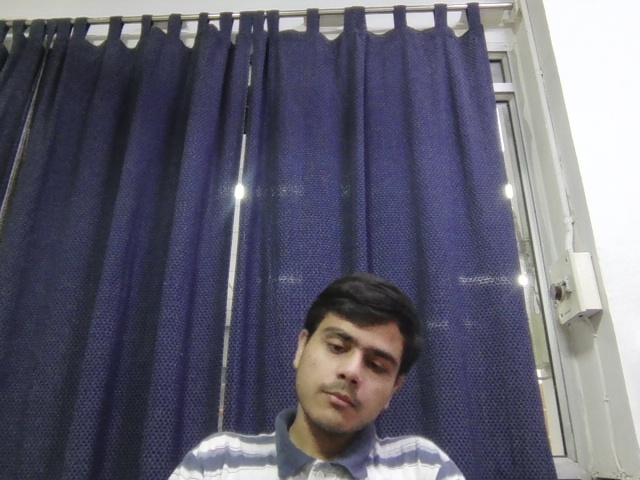face: (294, 277, 416, 433)
